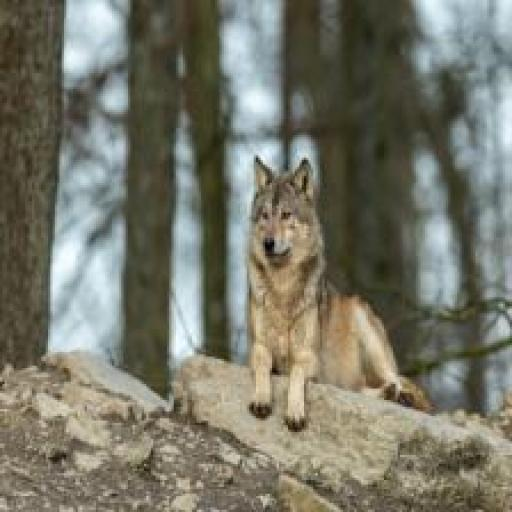wolf: (229, 128, 457, 478)
